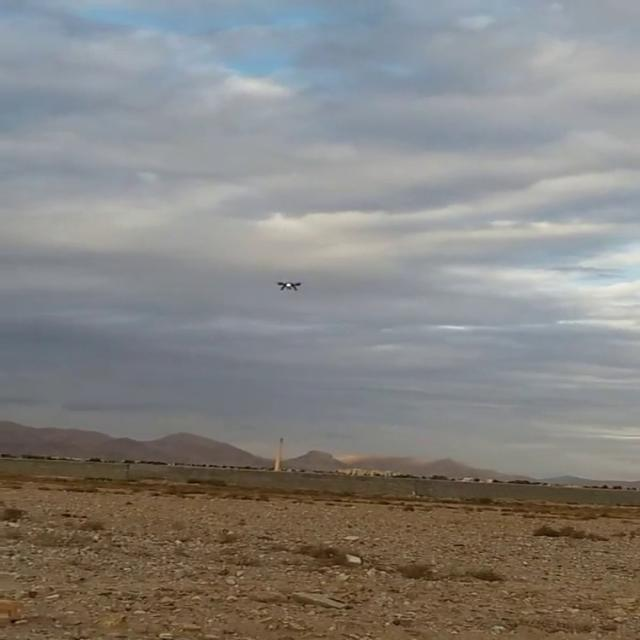drone: (271, 275, 308, 291)
